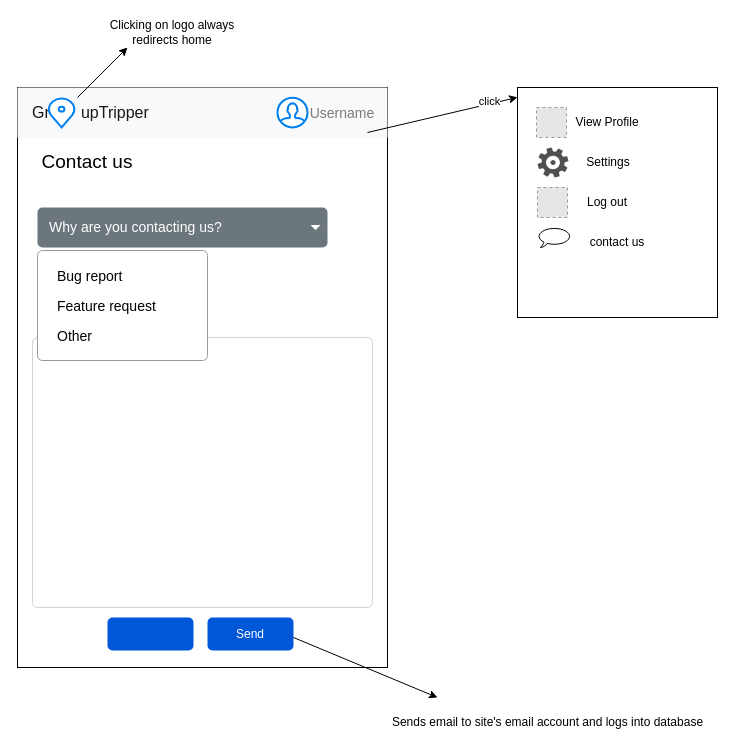
The diagram is 735 pixels wide and 754 high, and some of its shapes have lost their labels. Grey dashed boxes stand in for pictures. The centre of each missing label's shape, as x and y in pixels:
Cancel: point (150, 633)
Write here..: point (202, 472)
